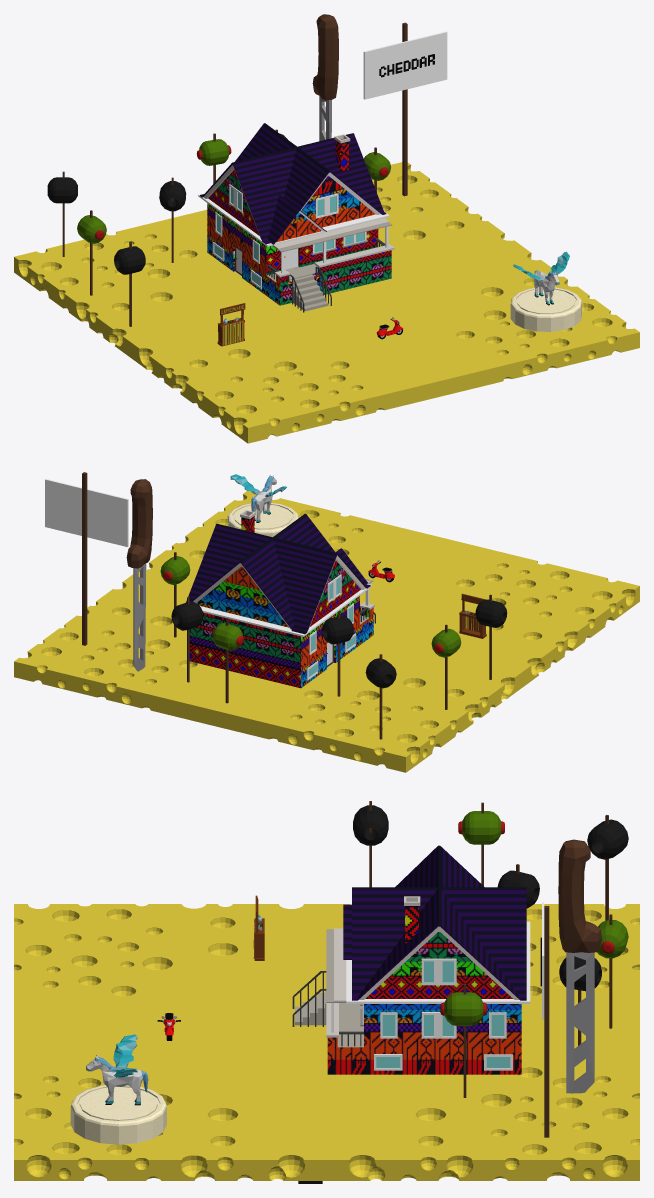
3 views of the same model, one above another, from view 1: azimuth 30°, elevation 25°; view 2: azimuth 150°, elevation 25°; view 3: azimuth 270°, elevation 25° (orthographic). The views are drawn at different scales.
Parts seen in each view (by area): view 1: Cube.022, Cube.966, Cube.023, Cylinder.016, Cube.024, ANIMAL_PEGASO, Sphere.017, Sphere.016, OBJRANDOM_LEMONADE_STAND, Sphere.020, Sphere.018, Sphere.022 (+1 smaller); view 2: Cube.022, Cube.966, Cube.023, Cube.024, Cylinder.016, Sphere.020, Sphere.016, Sphere.022, ANIMAL_PEGASO, Sphere.017, Sphere.021, Sphere.018 (+2 smaller); view 3: Cube.022, Cube.966, Cube.024, Cylinder.016, ANIMAL_PEGASO, Cube.023, Sphere.019, Sphere.016, Sphere.018, Sphere.017, Sphere.022, Sphere.020 (+2 smaller).
Boxes of the visible parts, <box> form: Cube.022: <box>14,162,639,443</box>; Cube.966: <box>198,123,394,312</box>; Cube.023: <box>363,22,447,196</box>; Cylinder.016: <box>510,287,581,331</box>; Cube.024: <box>312,14,338,141</box>; ANIMAL_PEGASO: <box>513,251,569,305</box>; Sphere.017: <box>114,241,145,326</box>; Sphere.016: <box>47,171,77,256</box>; OBJRANDOM_LEMONADE_STAND: <box>217,303,245,346</box>; Sphere.020: <box>159,177,186,262</box>; Sphere.018: <box>77,210,106,295</box>; Sphere.022: <box>196,133,231,183</box>; Cube.022: <box>14,491,639,772</box>; Cube.966: <box>185,510,375,688</box>; Cube.023: <box>45,472,128,645</box>; Cube.024: <box>126,479,152,671</box>; Cylinder.016: <box>227,503,298,537</box>; Sphere.020: <box>322,611,353,696</box>; Sphere.016: <box>365,654,396,739</box>; Sphere.022: <box>212,618,243,703</box>; ANIMAL_PEGASO: <box>230,474,286,522</box>; Sphere.017: <box>475,594,507,679</box>; Sphere.021: <box>171,597,203,682</box>; Sphere.018: <box>431,624,461,709</box>; Cube.022: <box>14,904,639,1180</box>; Cube.966: <box>292,845,530,1074</box>; Cube.024: <box>558,839,601,1093</box>; Cylinder.016: <box>70,1085,166,1144</box>; ANIMAL_PEGASO: <box>86,1034,148,1105</box>; Cube.023: <box>540,902,549,1137</box>; Sphere.019: <box>440,984,487,1097</box>; Sphere.016: <box>587,815,628,920</box>; Sphere.018: <box>458,802,504,885</box>; Sphere.017: <box>353,801,388,887</box>; Sphere.022: <box>597,914,628,1028</box>; Sphere.020: <box>497,864,539,908</box>.
Bounding box in the file's own units: 3917 × 2015 × 4000.
Materials: 44 (7 with a texture image).
